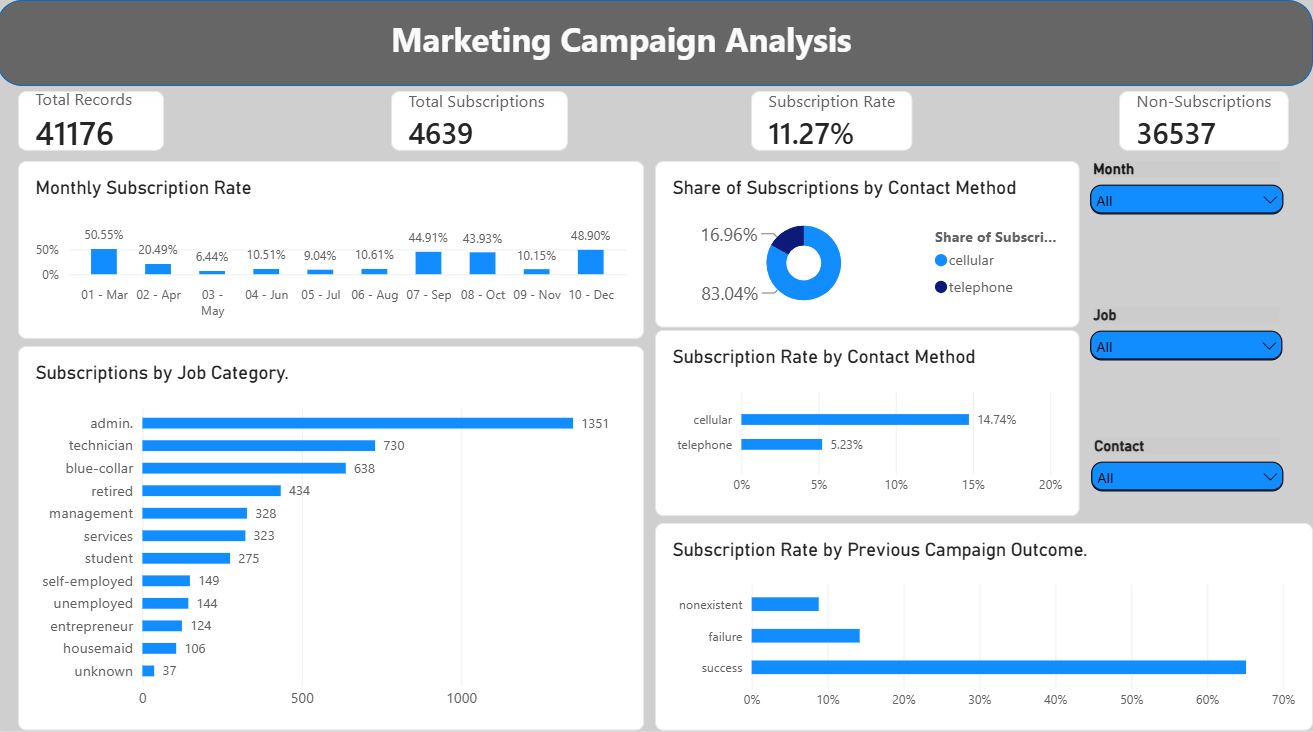

Layout of this report page (visuals, bound fields, positions):
{"tool":"powerbi","page":{"name":"Marketing Campaign","canvas":[1280,720],"ordinal":0},"visuals":[{"type":"cardVisual","fields":{"Data":["bank_marketing.Total Records"]},"box":[20.4,97.3,143,58.4],"z":0},{"type":"cardVisual","fields":{"Data":["bank_marketing.Total Subscriptions"]},"box":[383.2,97.3,172.2,58.4],"z":1000},{"type":"cardVisual","fields":{"Data":["bank_marketing.Subscription Rate"]},"box":[733.4,97.3,157.6,58.4],"z":2000},{"type":"cardVisual","fields":{"Data":["bank_marketing.Non-Subscriptions"]},"box":[1091.3,97.3,165.3,58.4],"z":3000},{"type":"shape","box":[0,8.8,1280,83.6],"z":4000},{"type":"clusteredColumnChart","title":"Monthly Subscription Rate","fields":{"Category":["bank_marketing.Month Label"],"Y":["bank_marketing.Subscription Rate"]},"box":[20.4,165.3,608.9,173.1],"z":5000},{"type":"clusteredBarChart","title":"Subscription Rate by Contact Method","fields":{"Category":["bank_marketing.contact"],"Y":["bank_marketing.Subscription Rate"]},"box":[640,329.7,413.4,180.9],"z":6000},{"type":"clusteredBarChart","title":"Subscriptions by Job Category.","fields":{"Category":["bank_marketing.job"],"Y":["bank_marketing.Total Subscriptions"]},"box":[20.4,345.3,608.9,374.5],"z":7000},{"type":"textbox","box":[383.2,24.3,475.6,48.6],"z":8000},{"type":"donutChart","title":"Share of Subscriptions by Contact Method","fields":{"Category":["bank_marketing.contact"],"Y":["bank_marketing.Total Subscriptions"]},"box":[640,165.3,413.4,162.4],"z":9000},{"type":"clusteredBarChart","title":"Subscription Rate by Previous Campaign Outcome.","fields":{"Category":["bank_marketing.poutcome"],"Y":["bank_marketing.Subscription Rate"]},"box":[640,517.4,640,202.3],"z":10000},{"type":"slicer","fields":{"Values":["bank_marketing.month"]},"box":[1058.2,165.3,198.4,70],"z":11000},{"type":"slicer","fields":{"Values":["bank_marketing.job"]},"box":[1058.2,307.4,197.4,75.9],"z":12000},{"type":"slicer","fields":{"Values":["bank_marketing.contact"]},"box":[1059.2,434.8,197.4,75.9],"z":13000}]}

Visuals, with their boxes in screenshot pixels (x1, y1, x2, y2), scaled from the page's 1280x720 canvas onto the 1313x732 screenshot:
cardVisual - bank_marketing.Total Records: x1=21 y1=99 x2=168 y2=158
cardVisual - bank_marketing.Total Subscriptions: x1=393 y1=99 x2=570 y2=158
cardVisual - bank_marketing.Subscription Rate: x1=752 y1=99 x2=914 y2=158
cardVisual - bank_marketing.Non-Subscriptions: x1=1119 y1=99 x2=1289 y2=158
shape: x1=0 y1=9 x2=1312 y2=94
"Monthly Subscription Rate" clusteredColumnChart: x1=21 y1=168 x2=646 y2=344
"Subscription Rate by Contact Method" clusteredBarChart: x1=656 y1=335 x2=1081 y2=519
"Subscriptions by Job Category." clusteredBarChart: x1=21 y1=351 x2=646 y2=731
textbox: x1=393 y1=25 x2=881 y2=74
"Share of Subscriptions by Contact Method" donutChart: x1=656 y1=168 x2=1081 y2=333
"Subscription Rate by Previous Campaign Outcome." clusteredBarChart: x1=656 y1=526 x2=1312 y2=731
slicer - bank_marketing.month: x1=1085 y1=168 x2=1289 y2=239
slicer - bank_marketing.job: x1=1085 y1=313 x2=1288 y2=390
slicer - bank_marketing.contact: x1=1087 y1=442 x2=1289 y2=519
